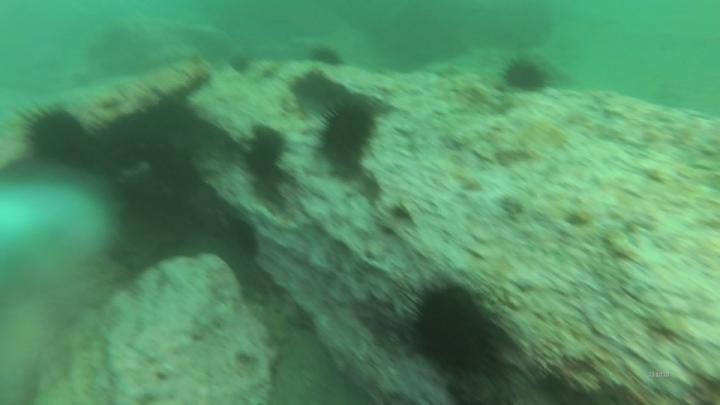echinus: (389, 269, 509, 390), (309, 96, 383, 176), (12, 100, 94, 172), (495, 56, 556, 95), (295, 68, 350, 110), (246, 122, 284, 182)
